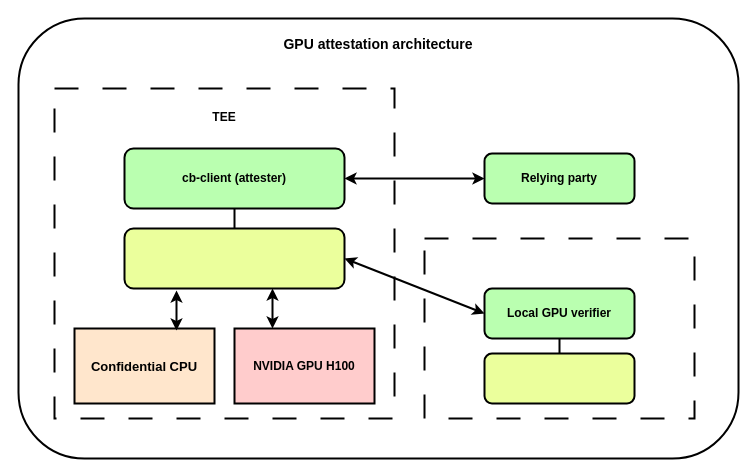
Some shapes in this 756 by 476 pixel diagram are drawn without their labels. Each missing label, with the box of its shape:
Attestation SDK: (123, 227, 345, 289)
Inspector (Verifier): (423, 237, 695, 419)
RIM service: (483, 352, 635, 404)
